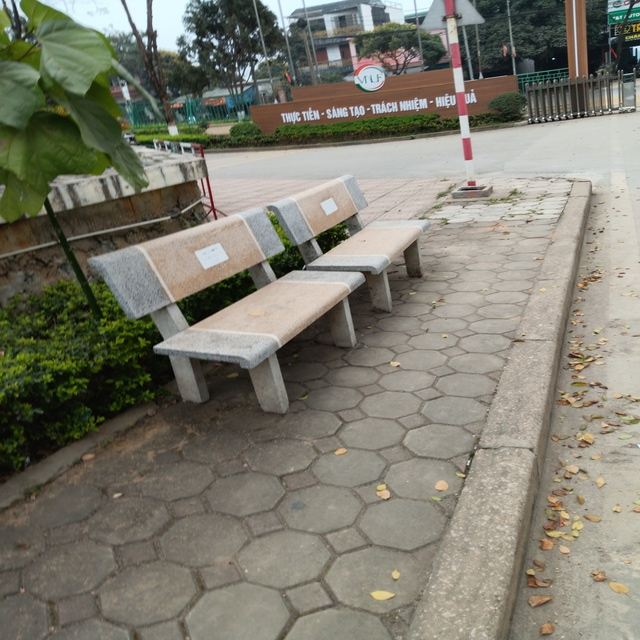gheda: (80, 207, 363, 417), (258, 171, 437, 315)
